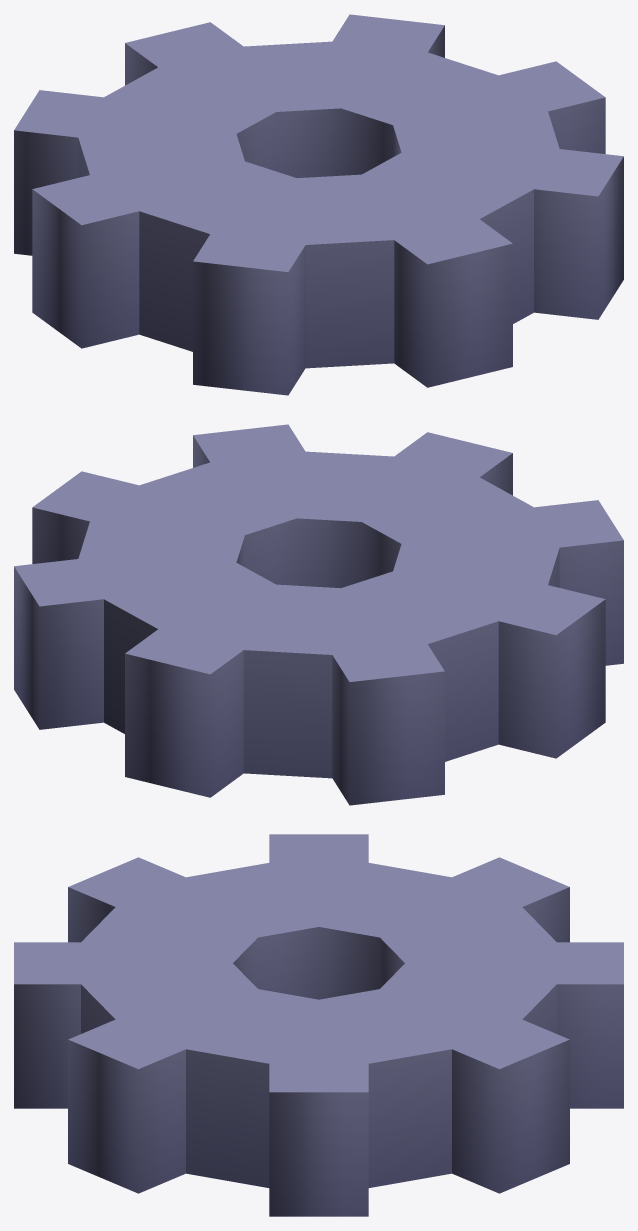
File: cog_a.glb
3 views of the same model, one above another, from view 1: azimuth 30°, elevation 25°; view 2: azimuth 150°, elevation 25°; view 3: azimuth 270°, elevation 25° (orthographic).
Parts seen in each view (by area): view 1: cog-a; view 2: cog-a; view 3: cog-a.
Part boxes in pixels (x1,y1,x2,y2): cog-a: (14, 14, 623, 395); cog-a: (14, 424, 623, 805); cog-a: (14, 834, 623, 1216).
Bounding box in the file's own units: 1 × 0.225 × 1.
Materials: 1 (1 with a texture image).
